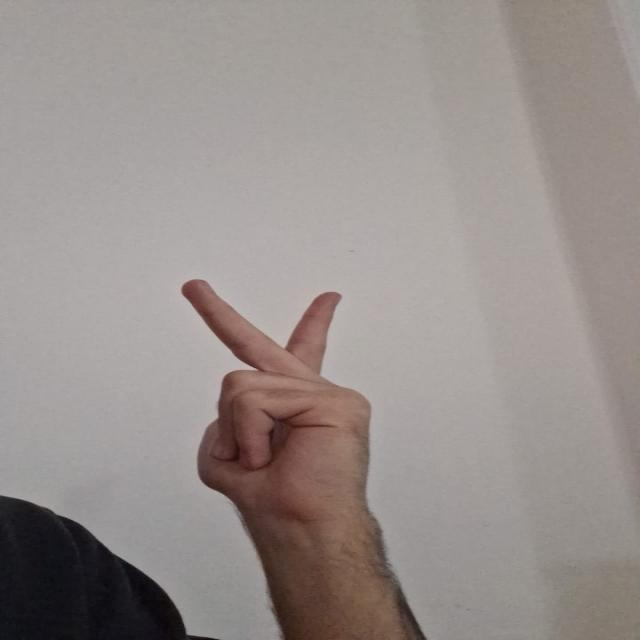K: (177, 272, 394, 518)
